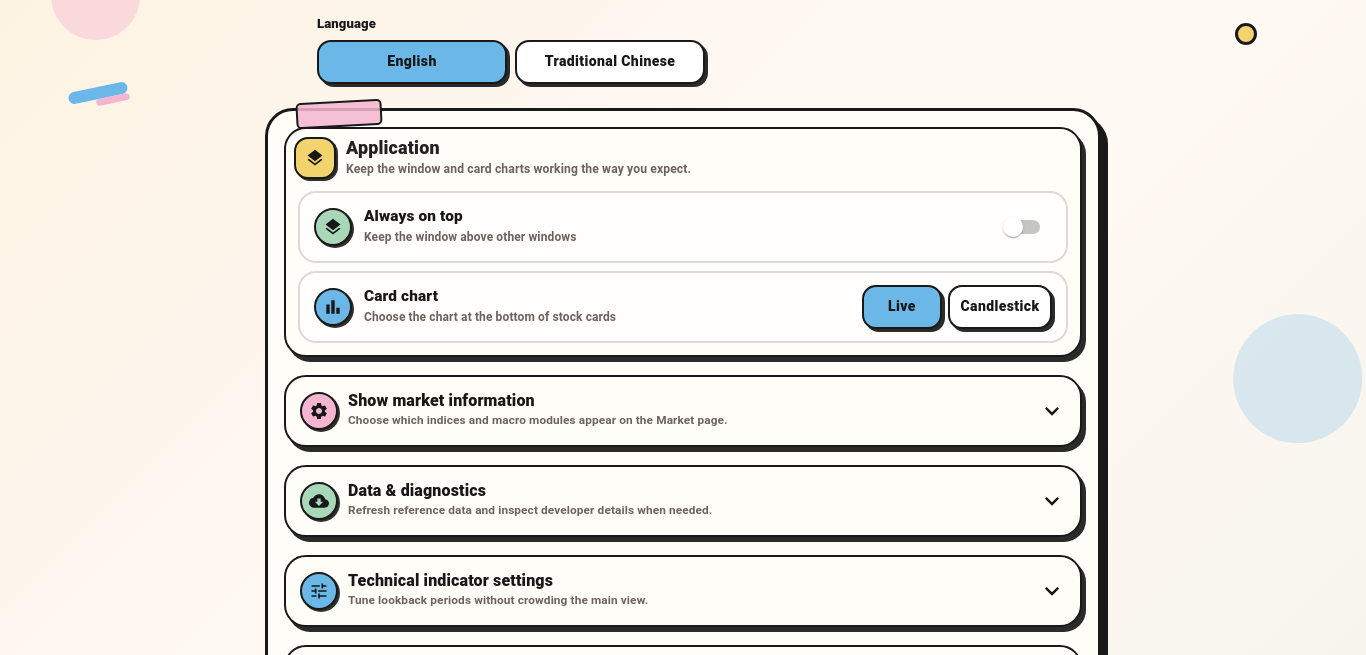
Test: Settings page › shows localized restore not-found and failure feedback without raw errors
The width and height of the screenshot is (1366, 655).
Click the button "Data & diagnostics". click: [683, 500]
box: [286,466,1080,534]
(page scrolled)
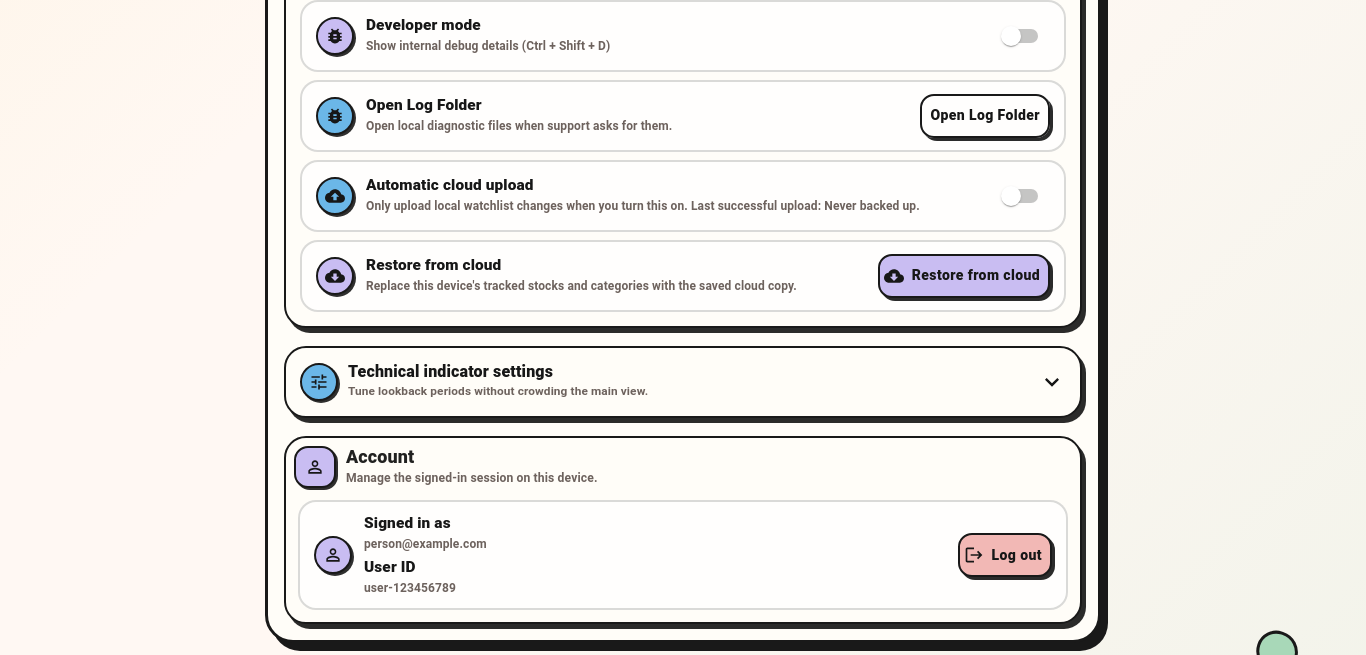
Click the button "Restore from cloud". click: [964, 276]
box: [878,254,1050,298]
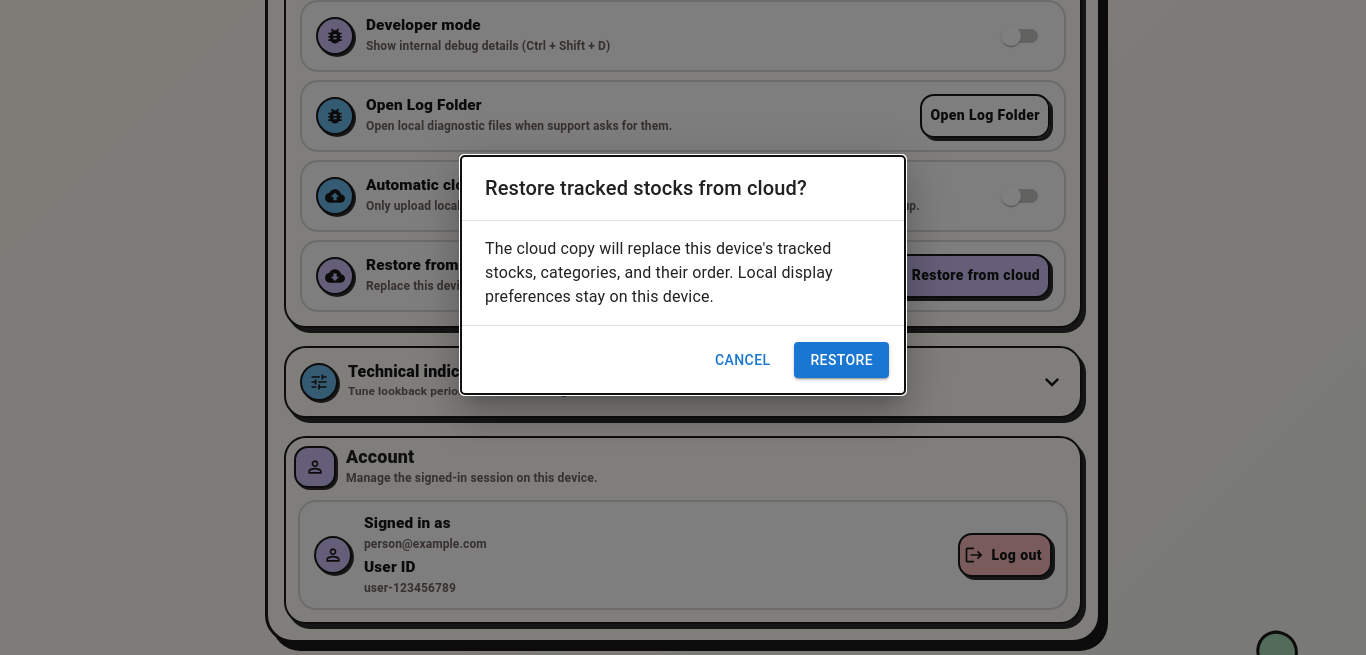
Click the button "Restore". click: [842, 360]
box: [794,342,889,378]
(page scrolled)
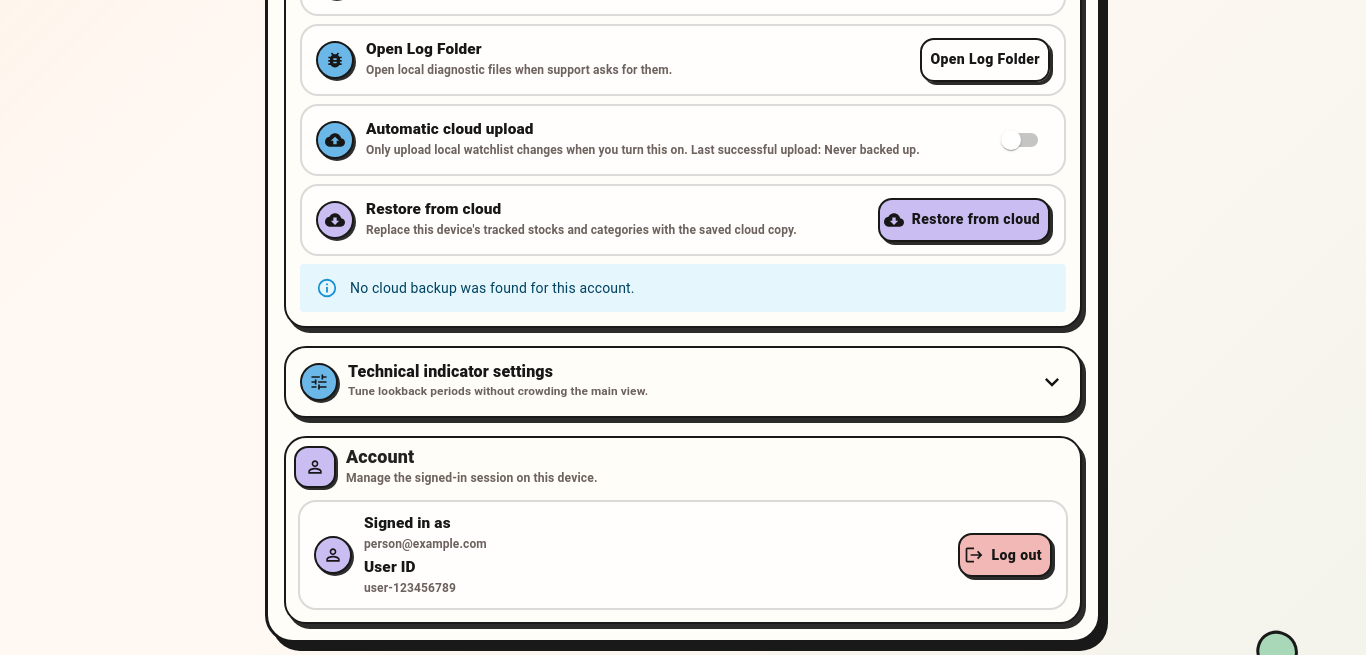
Now the message shows "No cloud backup", box [350,280,635,296]
Click the button "Restore from cloud". click: [964, 220]
box: [878,198,1050,242]
(page scrolled)
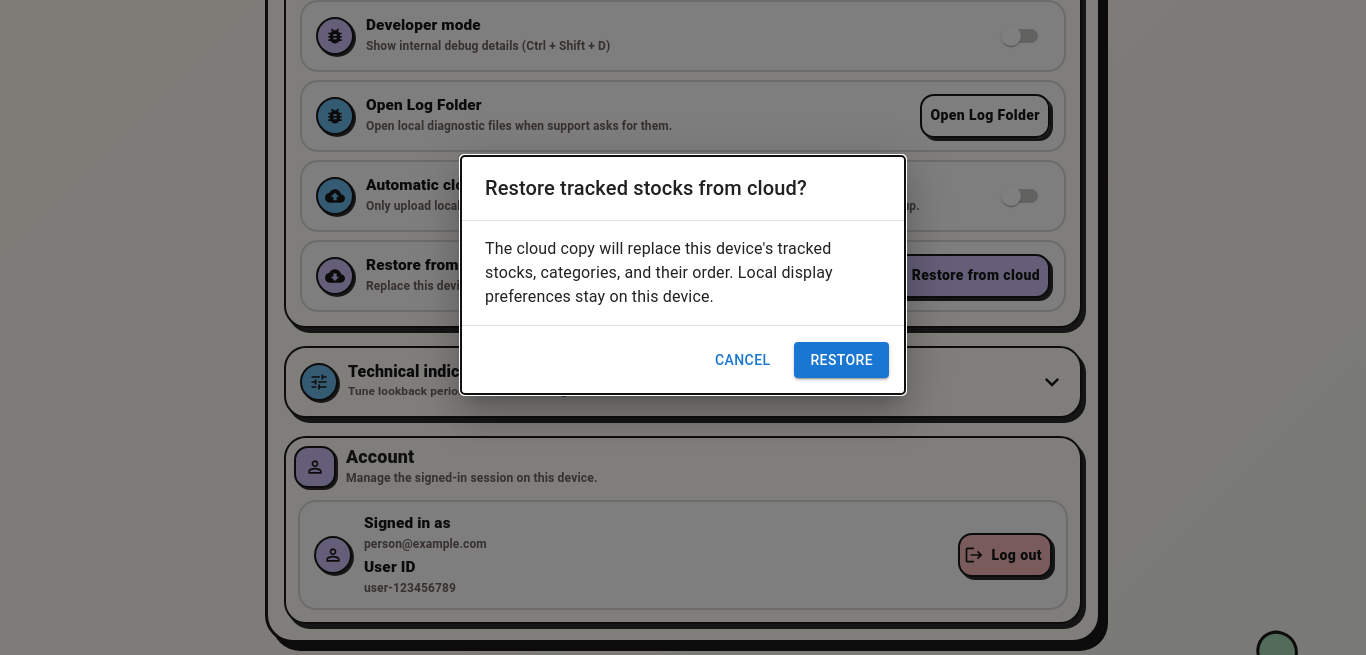
Click the button "Restore". click: [842, 360]
box: [794,342,889,378]
(page scrolled)
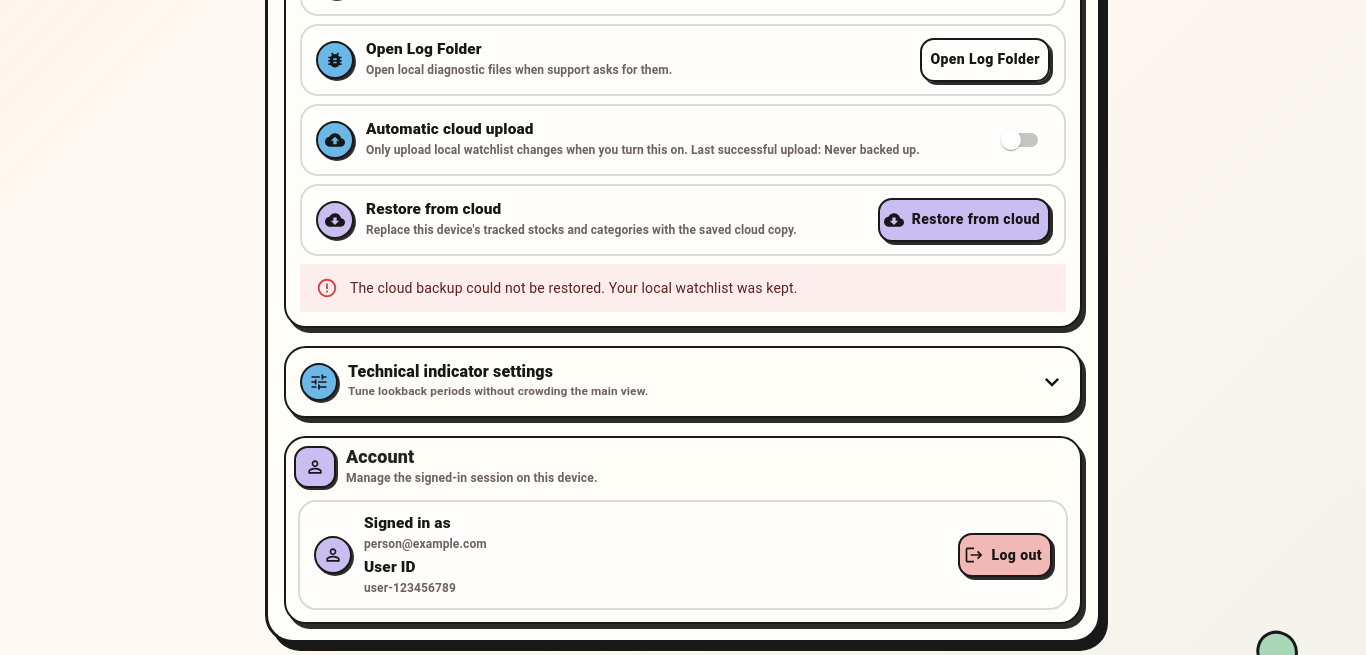
Now the message shows "could not be restored", box [350,280,798,296]
